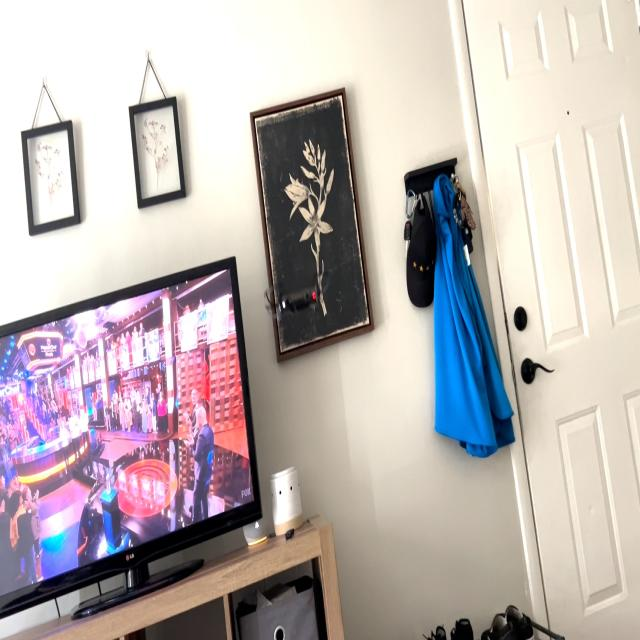drone: (254, 268, 346, 328)
